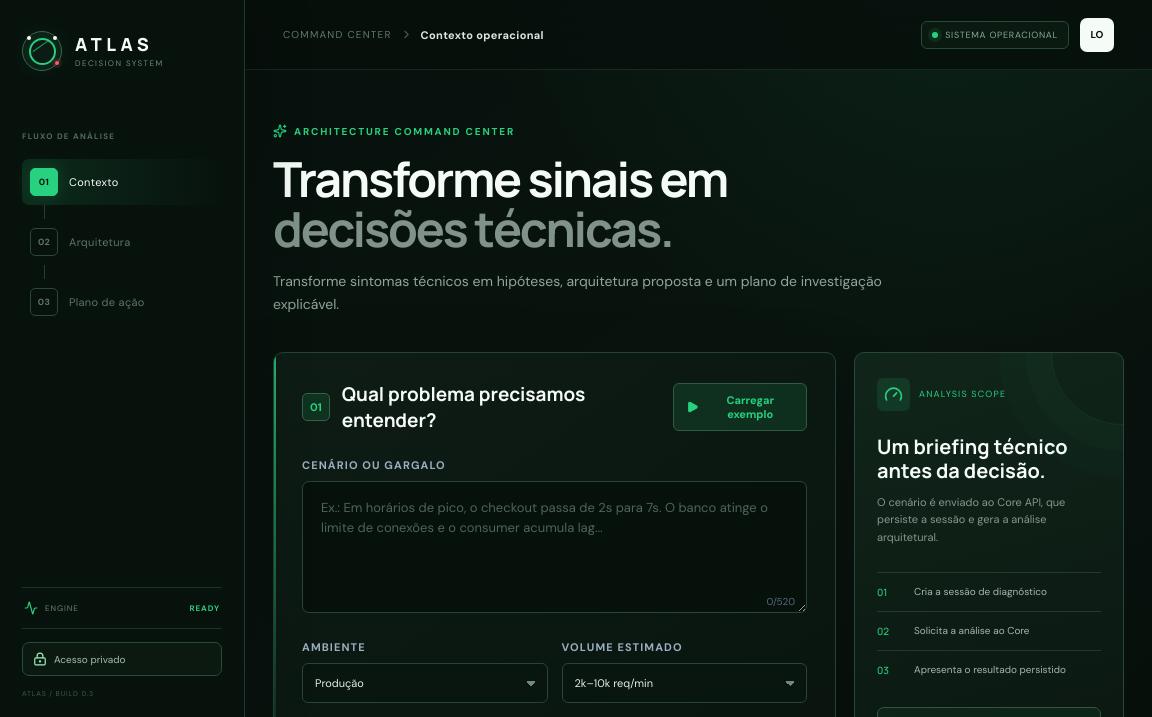
it: api mode (integrated with atlas-core-api) › creates a session, requests the analysis and renders the real Core API result
Click the button "Carregar exemplo".
click(740, 407)  # box [673,383,807,431]
(page scrolled)
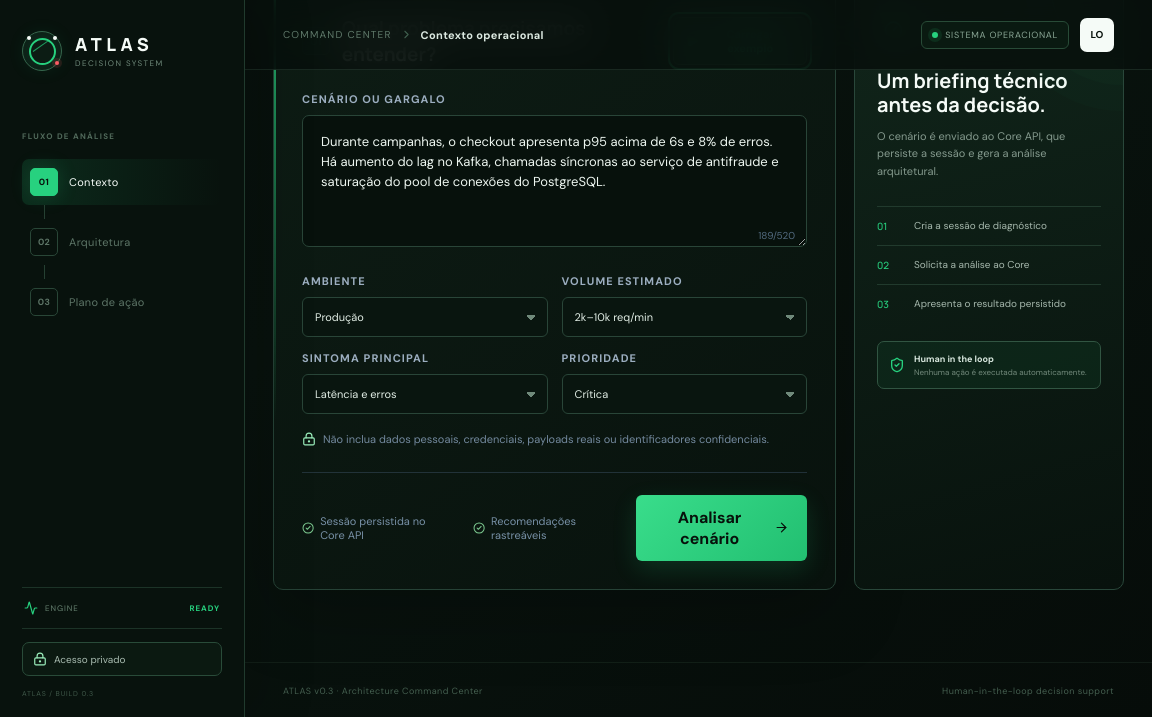
Click the button "Analisar cenário".
click(722, 528)  # box [636,495,807,561]
(page scrolled)
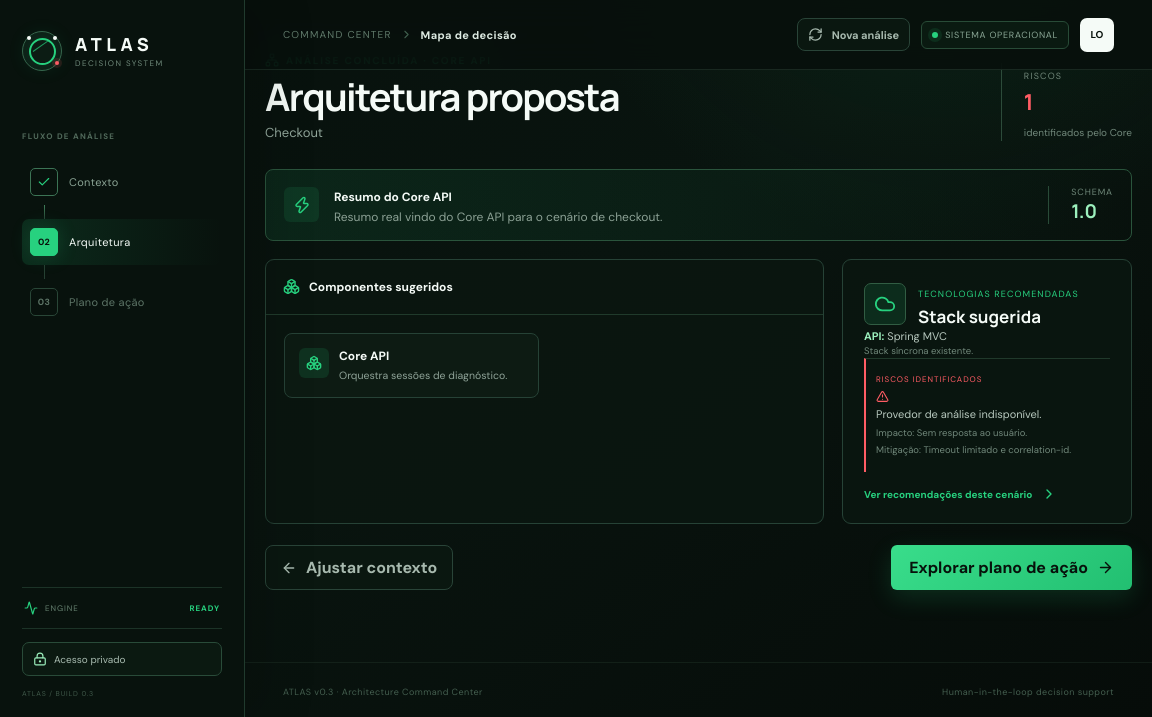
Expected: the heading "Arquitetura proposta" is shown, [265,77,619,116]
Expected: the text "Resumo real vindo do Core API para o cenário de checkout." is shown, [334,208,662,224]
